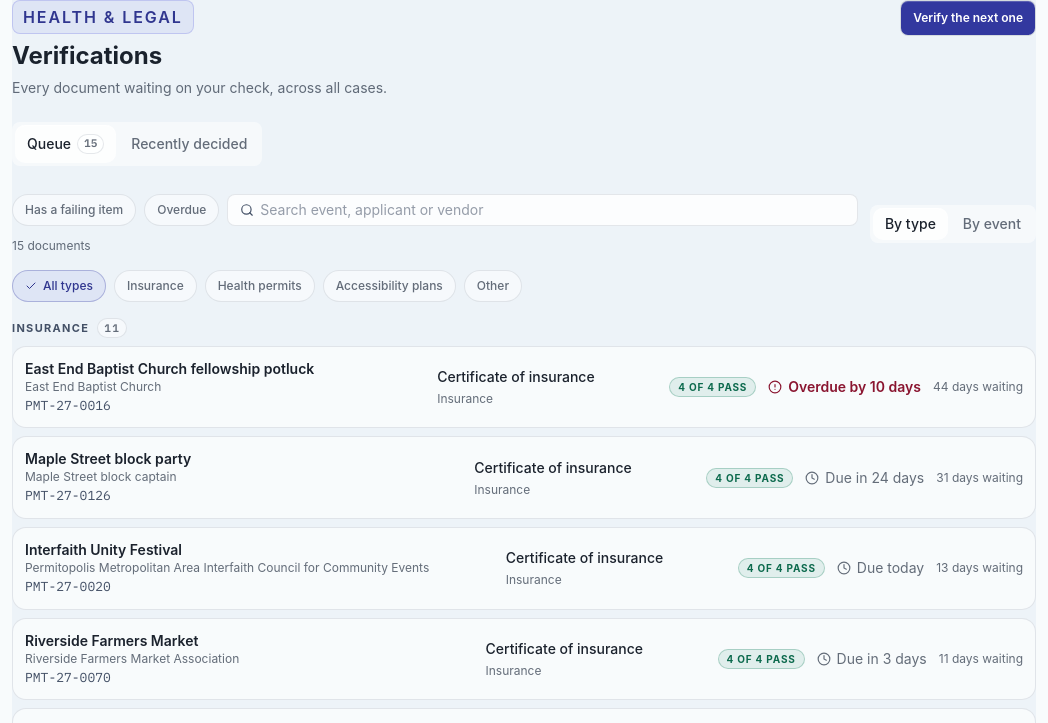
it: Verifications: the queue › grouping by event shows each case once, with its documents under it
Click the radio button labelled "By event" at (992, 224), box x1=951 y1=208 x2=1033 y2=240
(page scrolled)
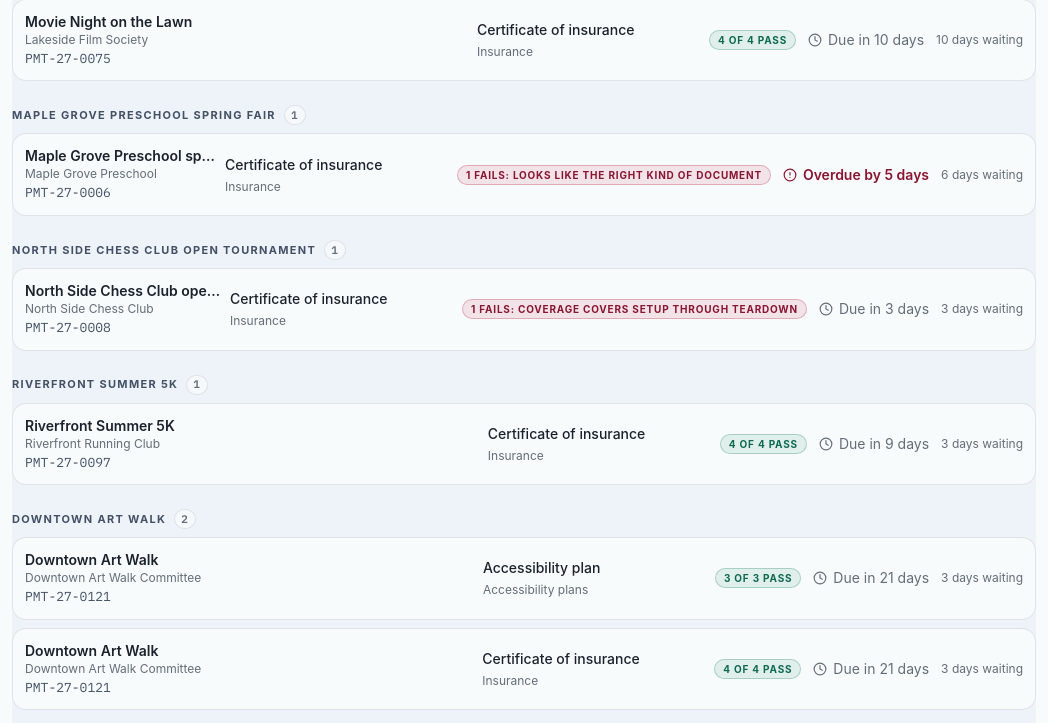
Now the heading "Riverfront Summer 5K 1" is shown, box x1=12 y1=374 x2=208 y2=394
